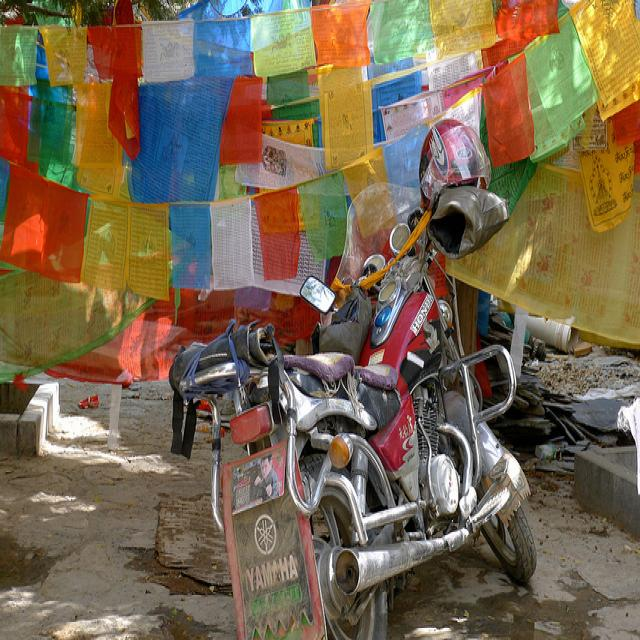motor: (215, 181, 531, 640)
